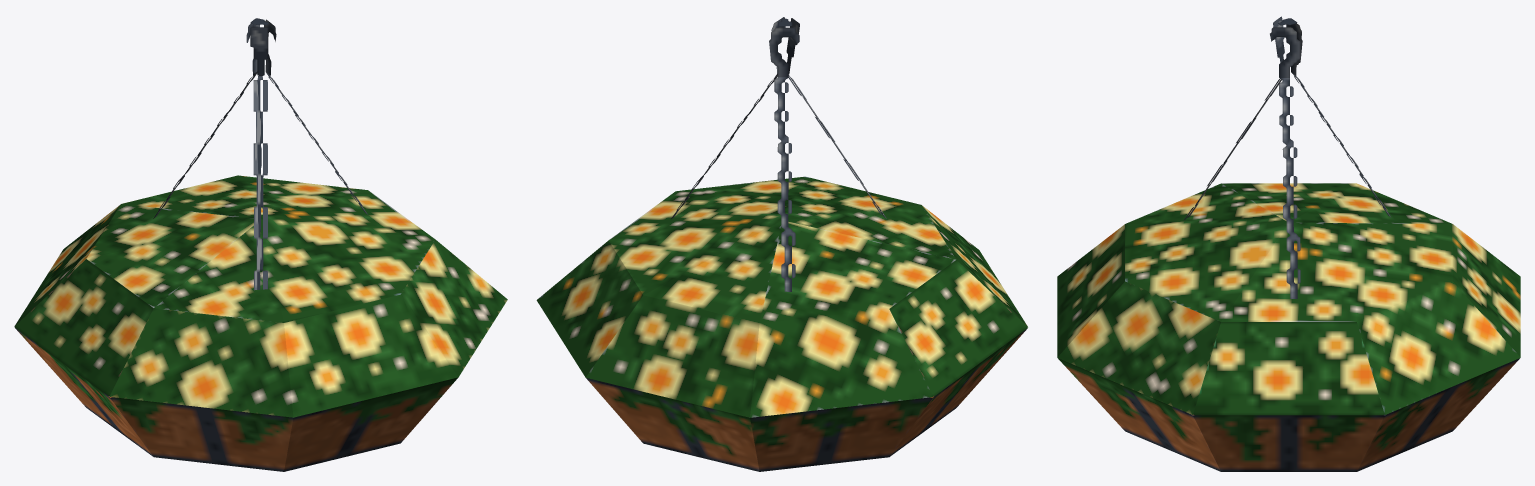
File: Hanging_Flowers.fbx
3 views of the same model, side by side, from view 1: azimuth 30°, elevation 25°; view 2: azimuth 150°, elevation 25°; view 3: azimuth 270°, elevation 25° (orthographic).
Visible parts, largest first — view 1: hanging pot, chain and hook; view 2: hanging pot, chain and hook; view 3: hanging pot, chain and hook.
Boxes of the visible parts, x1,y1,x2,y2 form: hanging pot: (14, 175, 507, 471); chain and hook: (153, 18, 367, 290); hanging pot: (536, 176, 1027, 471); chain and hook: (671, 17, 886, 291); hanging pot: (1057, 183, 1520, 471); chain and hook: (1184, 16, 1391, 298).
Bounding box in the file's own units: 25 × 25 × 25.
2 materials, 2 textured.
